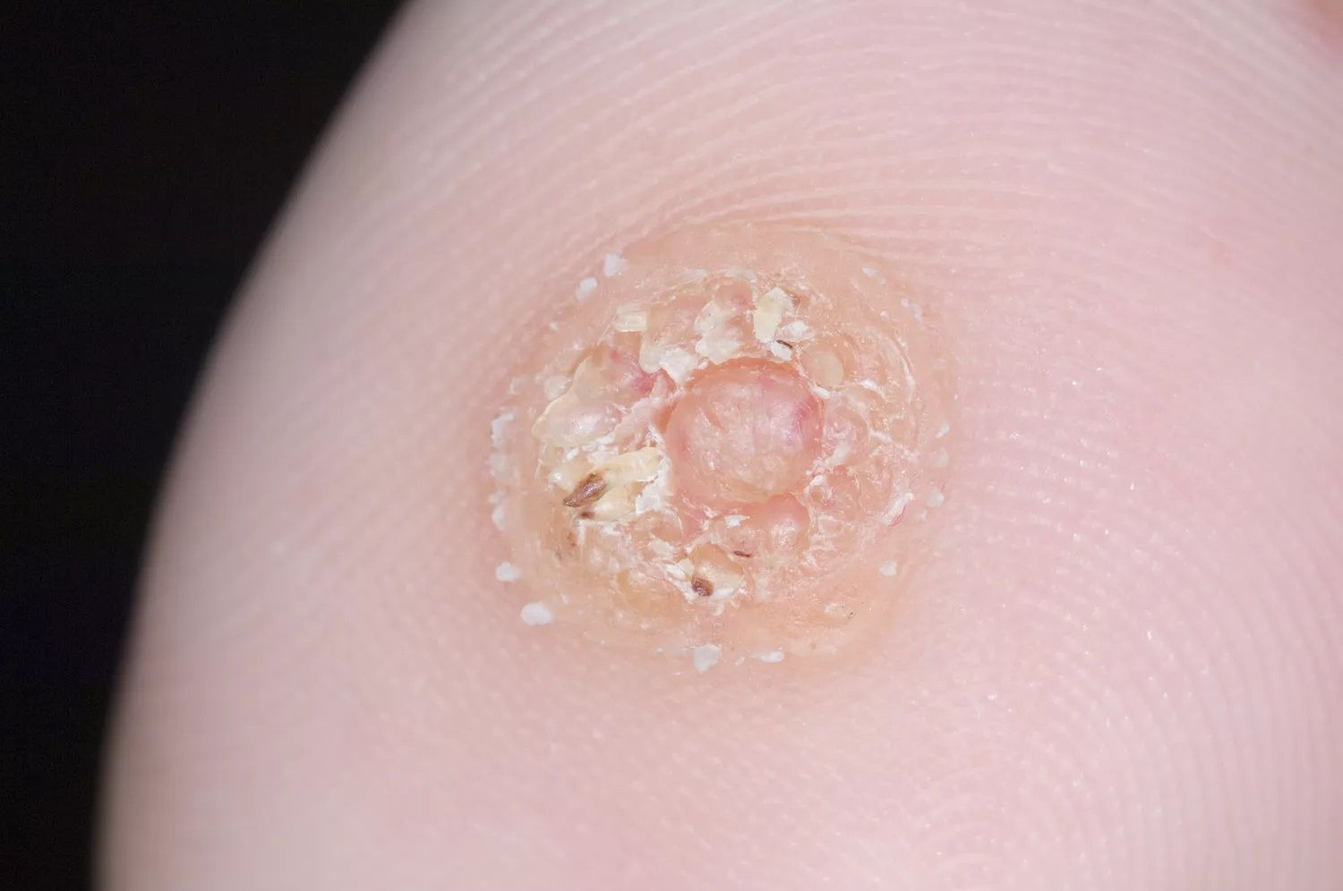Warts: (468, 183, 967, 682)
